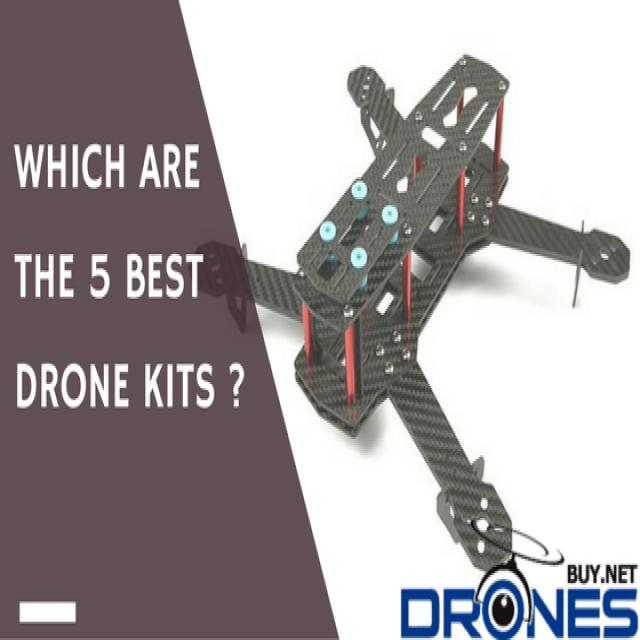drone: (241, 0, 640, 540)
